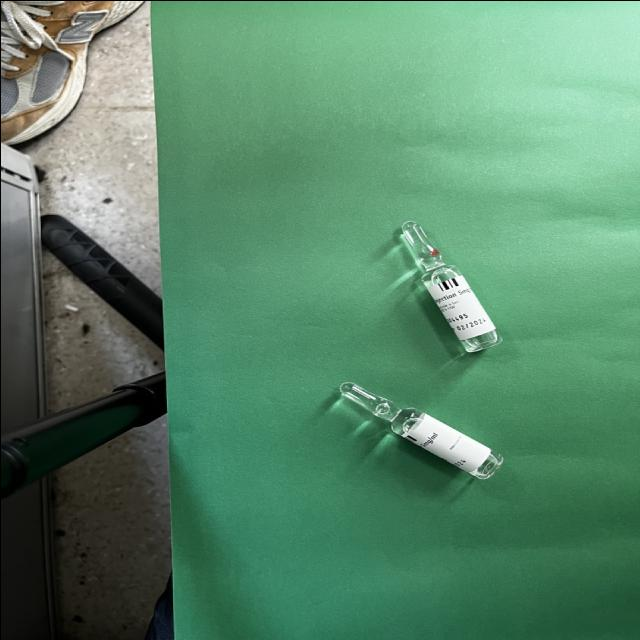Ampoules: (339, 381, 503, 480), (401, 220, 501, 354)
